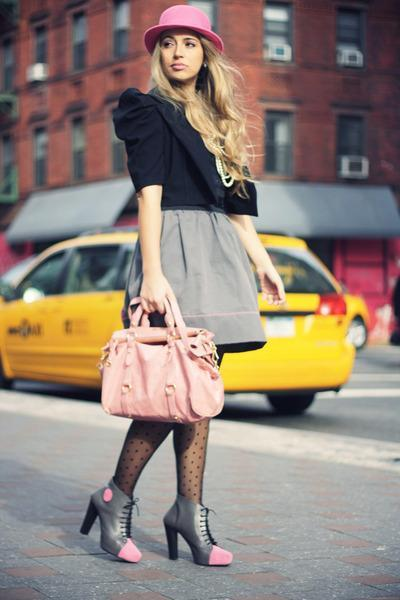bag: (102, 293, 224, 443)
hat: (145, 5, 233, 68)
jacket: (108, 87, 257, 217)
shoe: (84, 482, 232, 566)
skirt: (114, 210, 266, 366)
